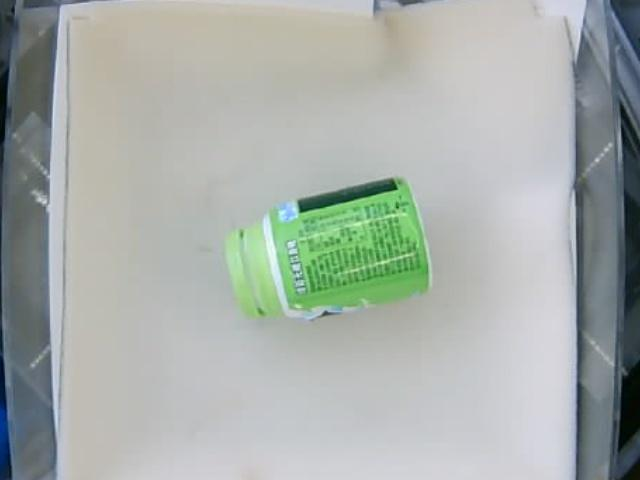Bottle: (224, 171, 432, 324)
